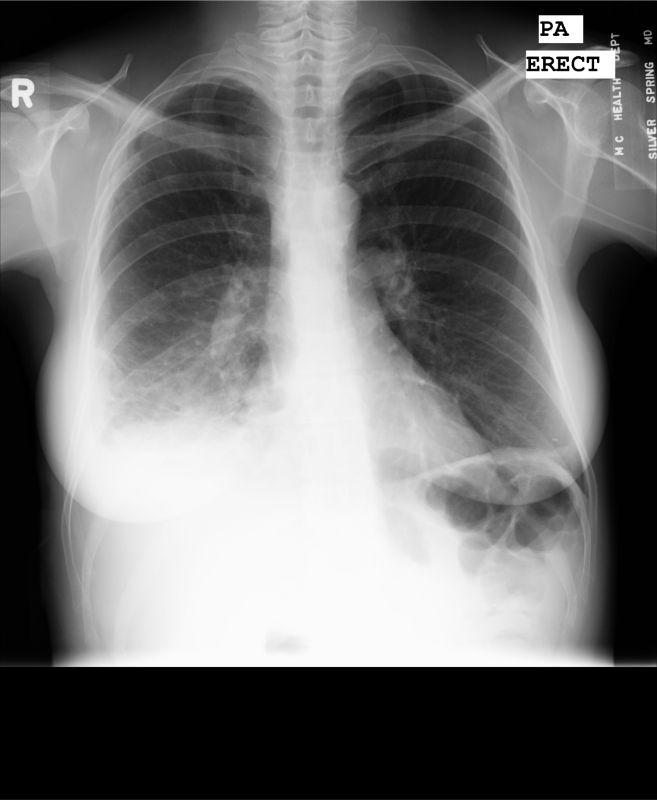Pleural Effusion: (54, 359, 230, 578)
